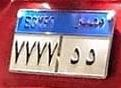7: (26, 39, 37, 67), (46, 42, 58, 67), (14, 40, 25, 63), (37, 40, 47, 65)
daal: (84, 45, 98, 66), (69, 46, 82, 66)
